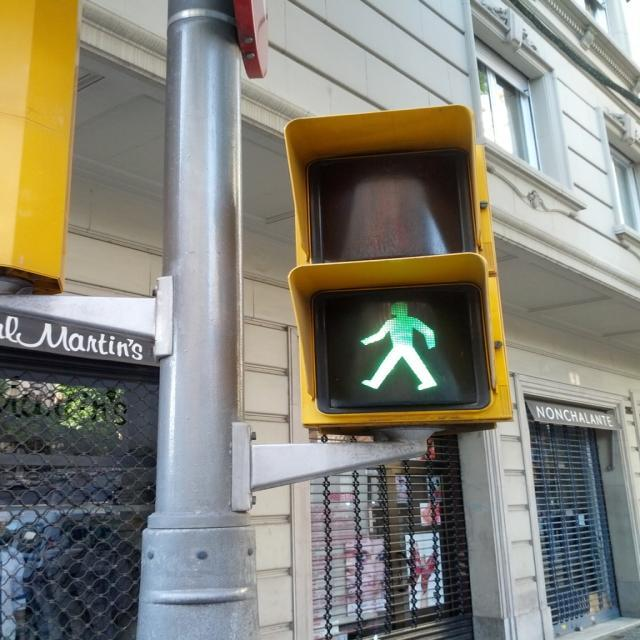traffic light: (285, 105, 511, 432)
